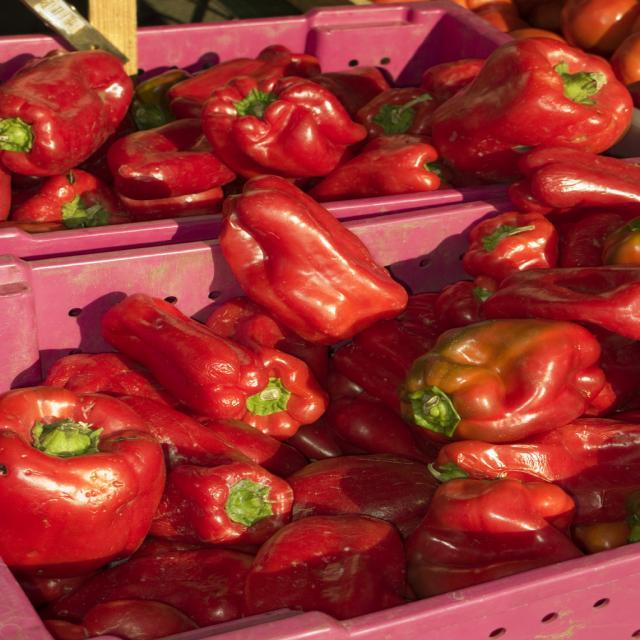Bell pepper: (0, 48, 639, 640)
